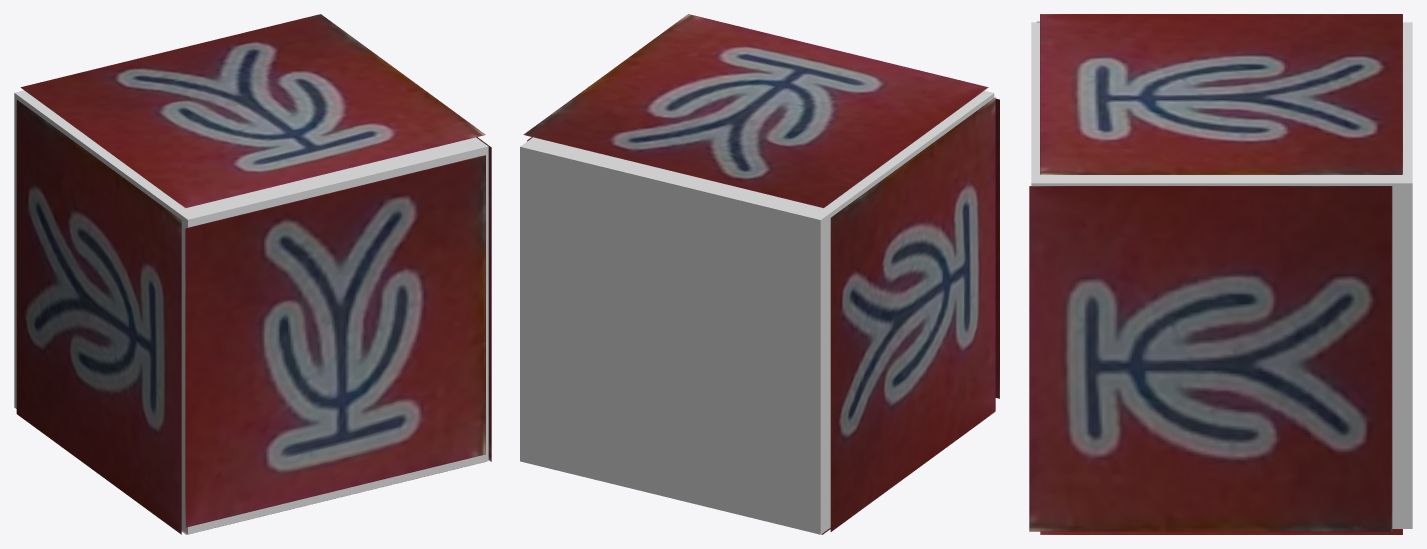
3 views of the same model, side by side, from view 1: azimuth 30°, elevation 25°; view 2: azimuth 150°, elevation 25°; view 3: azimuth 270°, elevation 25° (orthographic). The views are drawn at different scales.
Parts seen in each view (by area): view 1: R2.001, R2.002, R2, Link36, R2.004; view 2: Link36, R2.002, R2, R2.001; view 3: R2.004, R2, Link36, R2.003.
Part boxes in pixels (<box>): R2.001: <box>185,155,485,527</box>; R2.002: <box>16,100,181,534</box>; R2: <box>20,14,485,208</box>; Link36: <box>14,90,488,534</box>; R2.004: <box>476,137,491,461</box>; Link36: <box>520,90,994,534</box>; R2.002: <box>830,97,995,531</box>; R2: <box>523,14,988,208</box>; R2.001: <box>995,98,999,398</box>; R2.004: <box>1029,186,1392,531</box>; R2: <box>1040,14,1402,174</box>; Link36: <box>1031,22,1412,528</box>; R2.003: <box>1040,529,1402,534</box>.
Size of the model in its own units: 0.3578 by 0.3529 by 0.3637.
Materials: 1 (1 with a texture image).
